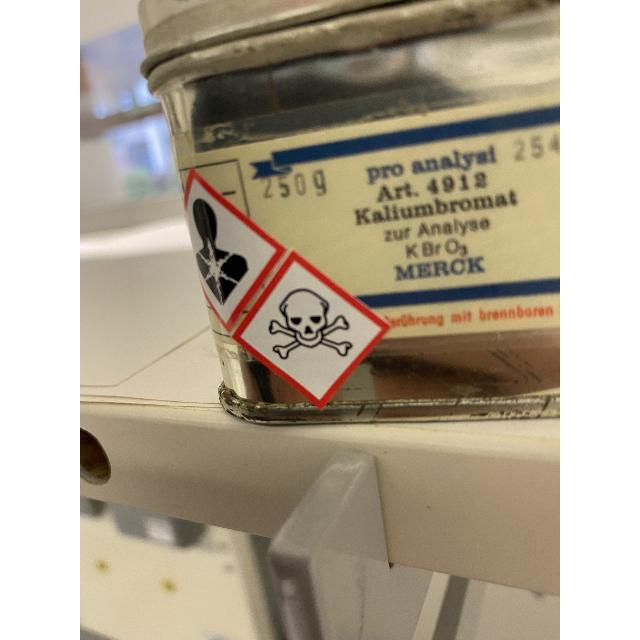acute toxicity: (232, 250, 391, 410)
serious health hazard: (184, 165, 286, 333)
